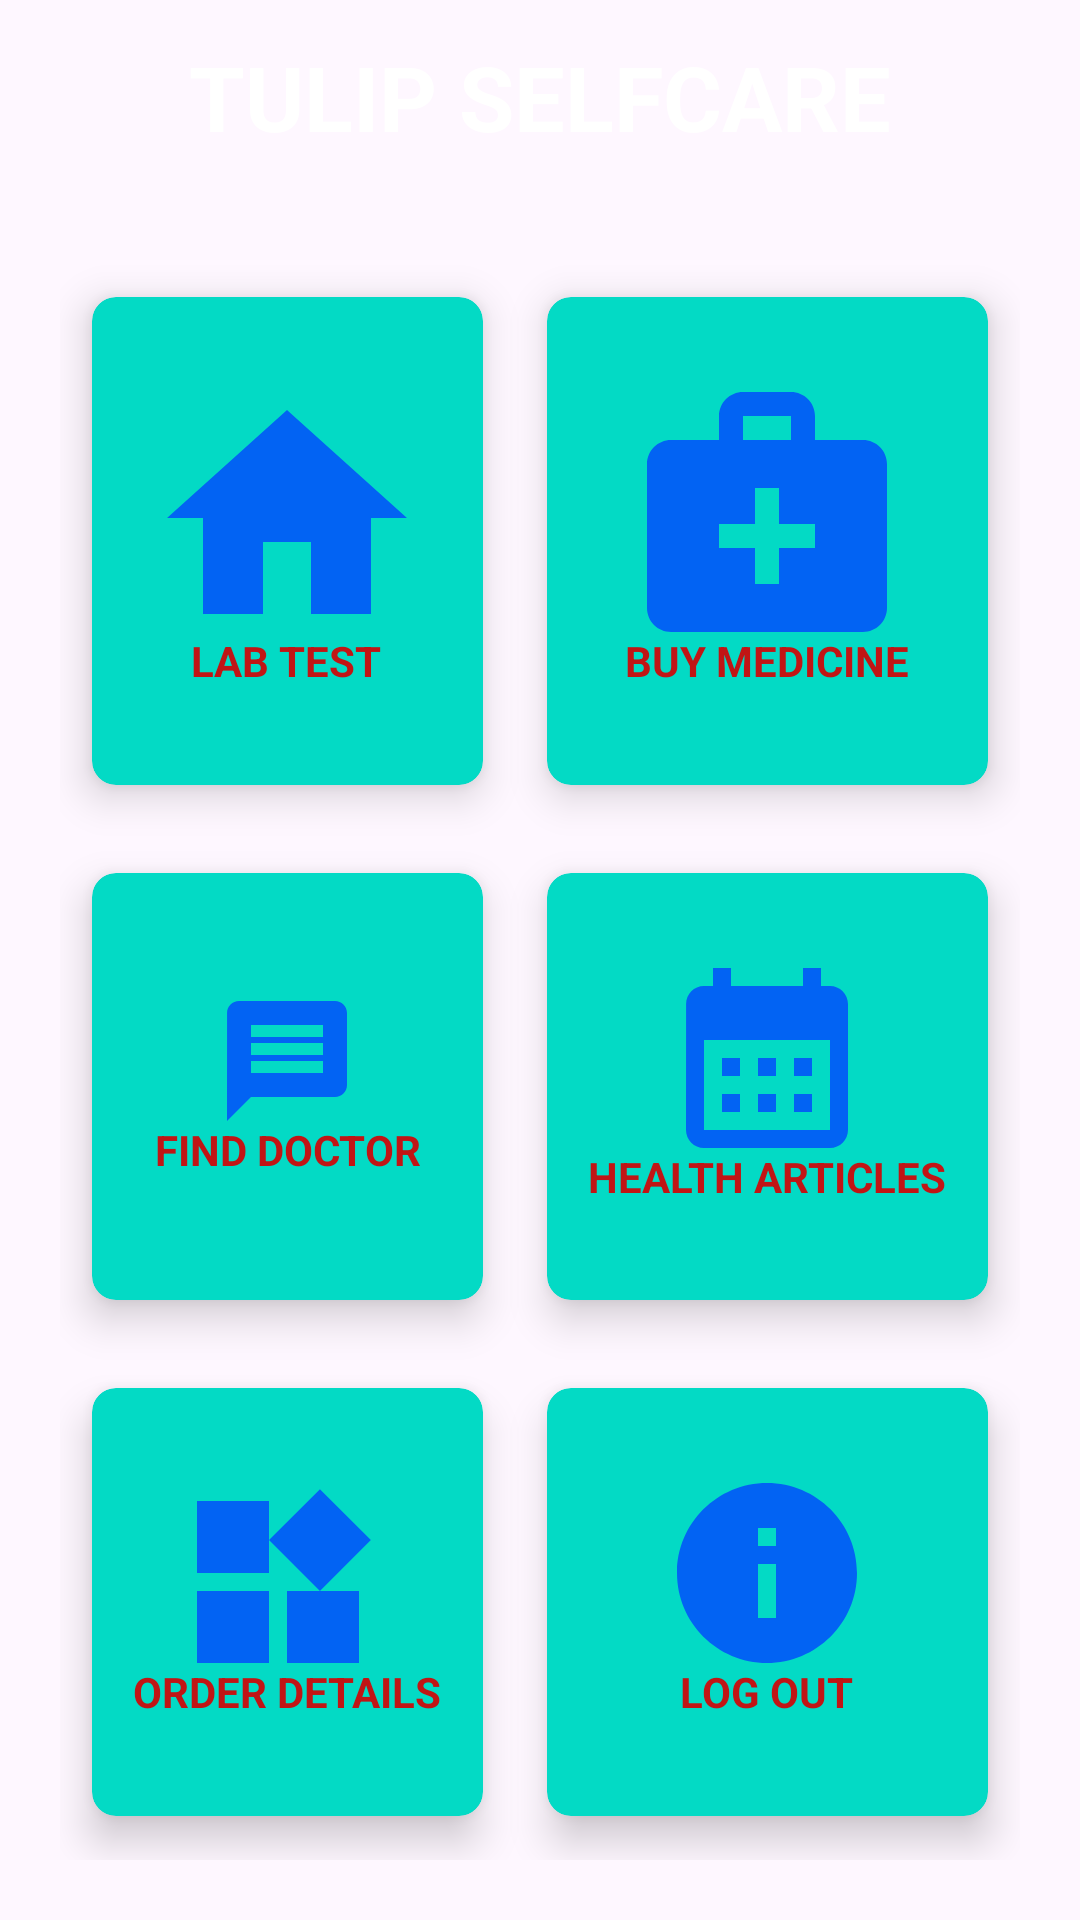

Named icons in this screenshot (1080x1920) and their bounding boxes, [x1,y1,x2,y2]:
calender: [686,968,848,1148]
home: [167,410,407,614]
info: [677,1483,857,1663]
message: [227,1001,347,1121]
widgets: [197,1489,371,1663]
